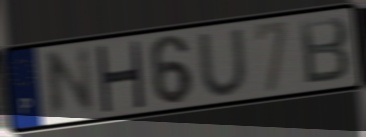6: (148, 33, 197, 107)
7: (254, 20, 292, 95)
B: (297, 14, 352, 87)
H: (93, 40, 147, 113)
N: (44, 43, 98, 123)
U: (195, 25, 251, 98)
